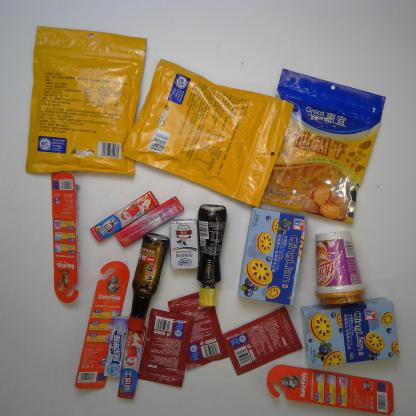Candy: (91, 186, 159, 243), (116, 193, 185, 245), (117, 322, 146, 401), (103, 313, 130, 379)
Dessert: (236, 204, 311, 306), (300, 297, 405, 368)
Dried Fruit: (123, 55, 294, 210), (239, 66, 389, 227), (22, 23, 151, 178)
Instant Drink: (312, 228, 366, 310)
Milk: (165, 215, 202, 271)
Personal Hygiene: (73, 260, 135, 390), (267, 363, 396, 416), (48, 167, 84, 304)
Seasoner: (221, 307, 305, 377), (165, 290, 233, 374), (137, 308, 195, 390), (127, 232, 170, 331), (195, 202, 228, 308)
